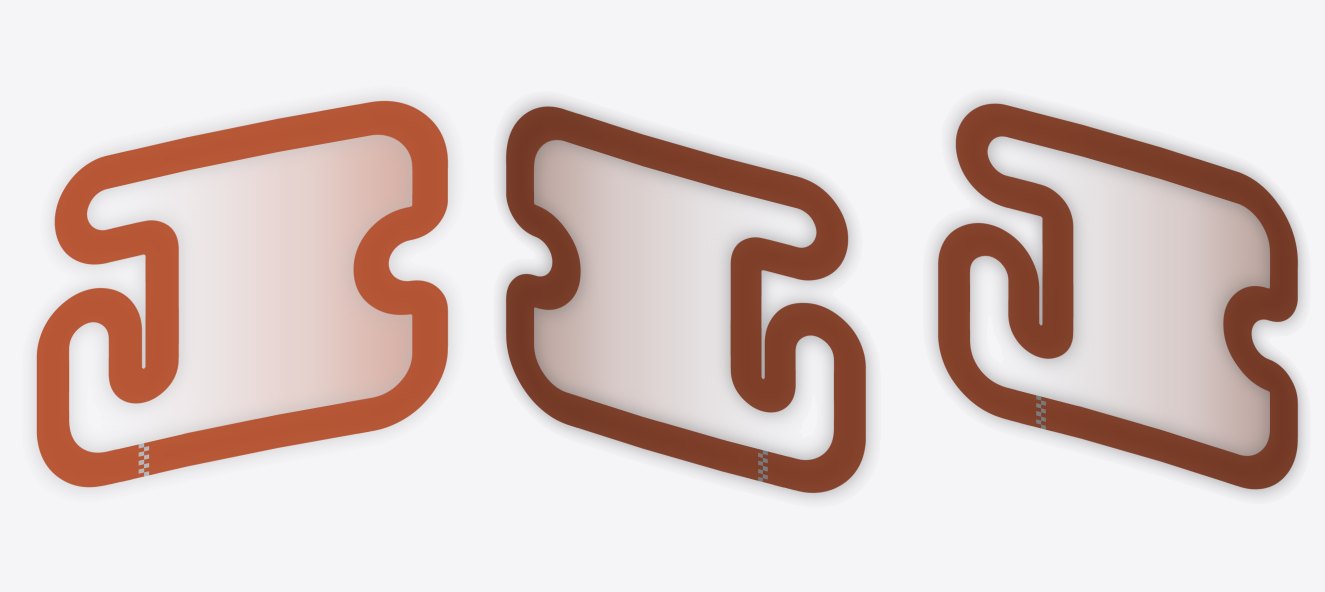
Rendered from minimap4.glb.
3 renders of one model, left to right at view 1: azimuth 30°, elevation 25°; view 2: azimuth 150°, elevation 25°; view 3: azimuth 330°, elevation 25°, orthographic. The views are drawn at different scales.
Visible parts, largest first — view 1: map4; view 2: map4; view 3: map4.
Part boxes in pixels (x1,y1,x2,y2): map4: (30, 94, 454, 493); map4: (500, 100, 872, 498); map4: (931, 97, 1303, 495).
Bounding box in the file's own units: 1.77 × 1.85 × 0.1391.
1 material, 1 textured.
